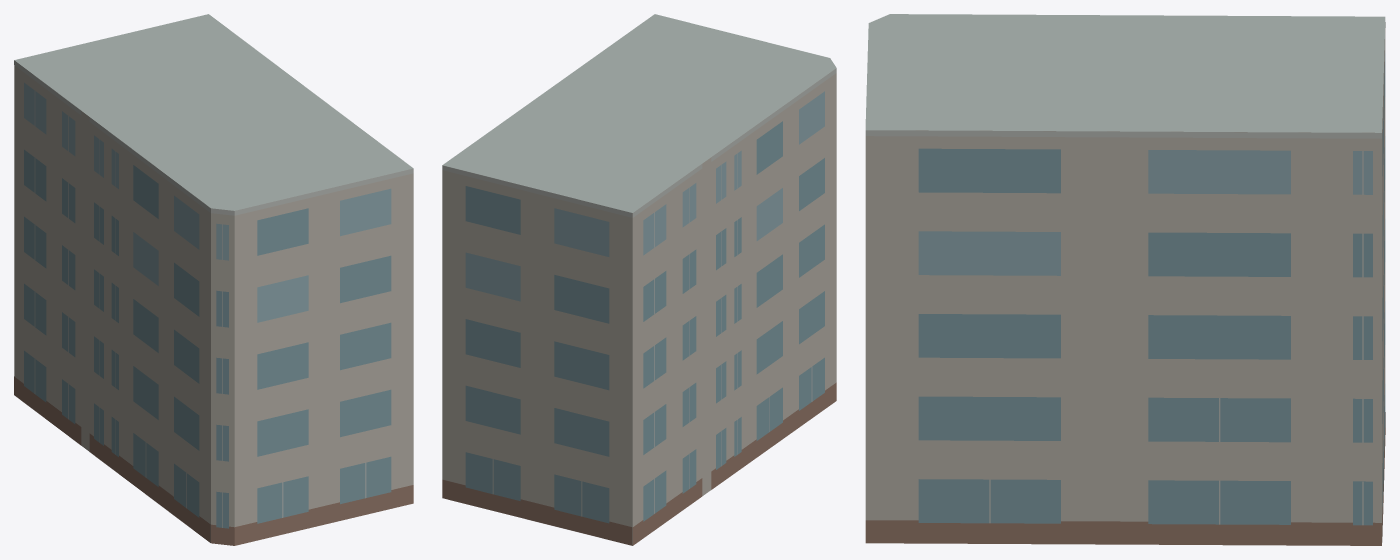
The model's file is survey-upis-32711189.glb.
3 views of the same model, side by side, from view 1: azimuth 30°, elevation 25°; view 2: azimuth 150°, elevation 25°; view 3: azimuth 270°, elevation 25° (orthographic). The views are drawn at different scales.
Parts seen in each view (by area): view 1: survey-upis-32711189.tmp; view 2: survey-upis-32711189.tmp; view 3: survey-upis-32711189.tmp.
Boxes of the visible parts, <box> form: survey-upis-32711189.tmp: <box>14,14,413,545</box>; survey-upis-32711189.tmp: <box>442,14,836,545</box>; survey-upis-32711189.tmp: <box>865,14,1385,545</box>.
Bounding box in the file's own units: 10.4 × 16.85 × 19.24.
